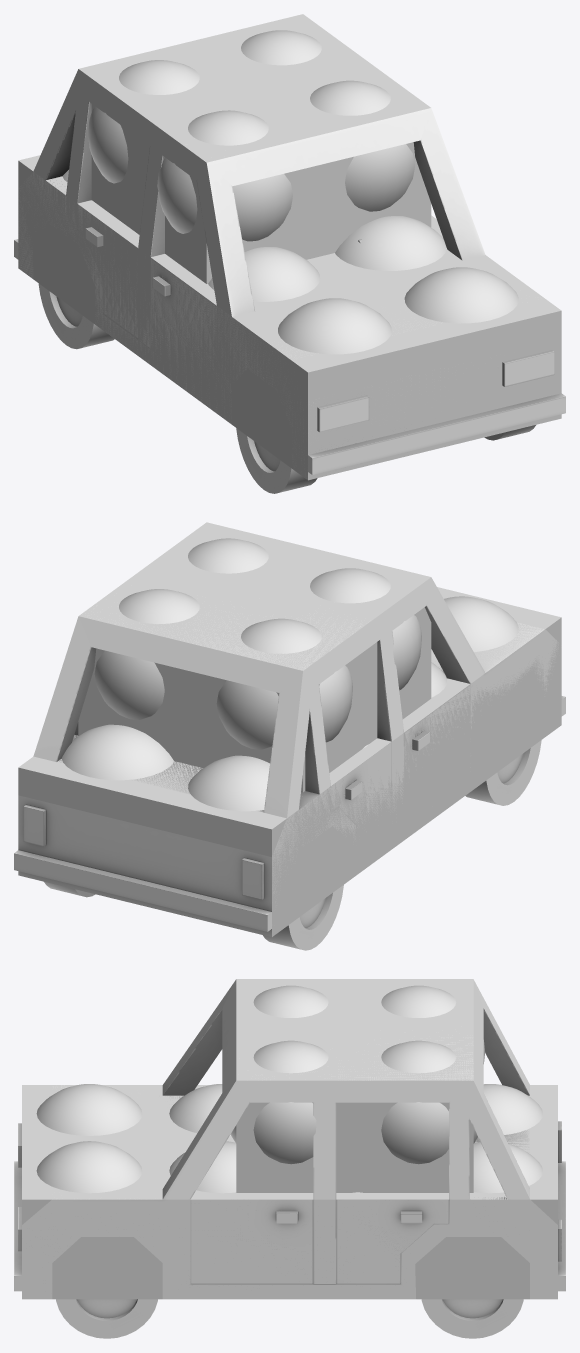
File: car.fbx
3 renders of one model, top to bottom at view 1: azimuth 30°, elevation 25°; view 2: azimuth 150°, elevation 25°; view 3: azimuth 270°, elevation 25°, orthographic. The views are drawn at different scales.
Parts seen in each view (by area): view 1: Cube.006, body, Cube.002, Sphere.002, Sphere.001, Sphere, Sphere.003, Sphere.010, Sphere.007, door_2, Sphere.011, Sphere.004 (+3 smaller); view 2: body, Cube.006, Cube.002, Sphere.007, Sphere.004, Sphere.005, Sphere.002, Sphere.006, door_4, Sphere.003, Sphere.001, wheel (+2 smaller); view 3: body, Cube.006, Cube.002, door_1, door_3, Sphere.004, Sphere.001, Sphere, Sphere.003, Cylinder.001, wheel_fl, Sphere.006 (+5 smaller).
Boxes of the visible parts, box(x1,y1,x2,y2) form: Cube.006: box(18, 155, 561, 480); body: box(14, 69, 565, 478); Cube.002: box(79, 14, 431, 283); Sphere.002: box(157, 110, 292, 241); Sphere.001: box(310, 80, 414, 211); Sphere: box(404, 267, 518, 368); Sphere.003: box(278, 298, 391, 399); Sphere.010: box(335, 216, 446, 270); Sphere.007: box(88, 60, 199, 183); door_2: box(150, 257, 216, 389); Sphere.011: box(208, 247, 320, 301); Sphere.004: box(241, 30, 321, 65); body: box(14, 577, 565, 937); Cube.006: box(18, 587, 561, 936); Cube.002: box(78, 522, 431, 792); Sphere.007: box(216, 618, 352, 749); Sphere.004: box(94, 589, 199, 719); Sphere.005: box(61, 724, 173, 780); Sphere.002: box(310, 568, 421, 690); Sphere.006: box(188, 755, 269, 811); door_4: box(331, 742, 391, 831); Sphere.003: box(444, 596, 518, 651); Sphere.001: box(188, 538, 268, 573); wheel: box(263, 885, 343, 950); body: box(14, 979, 565, 1299); Cube.006: box(22, 1085, 557, 1299); Cube.002: box(236, 979, 473, 1192); door_1: box(190, 1199, 313, 1283); door_3: box(336, 1199, 448, 1283); Sphere.004: box(381, 1040, 477, 1164); Sphere.001: box(230, 1040, 328, 1164); Sphere: box(36, 1141, 142, 1193); Sphere.003: box(36, 1084, 142, 1135); Cylinder.001: box(421, 1299, 523, 1338); wheel_fl: box(56, 1299, 157, 1338); Sphere.006: box(483, 1084, 542, 1134).
Bounding box in the file's own units: 128 × 131 × 249.
2 materials, 2 textured.
